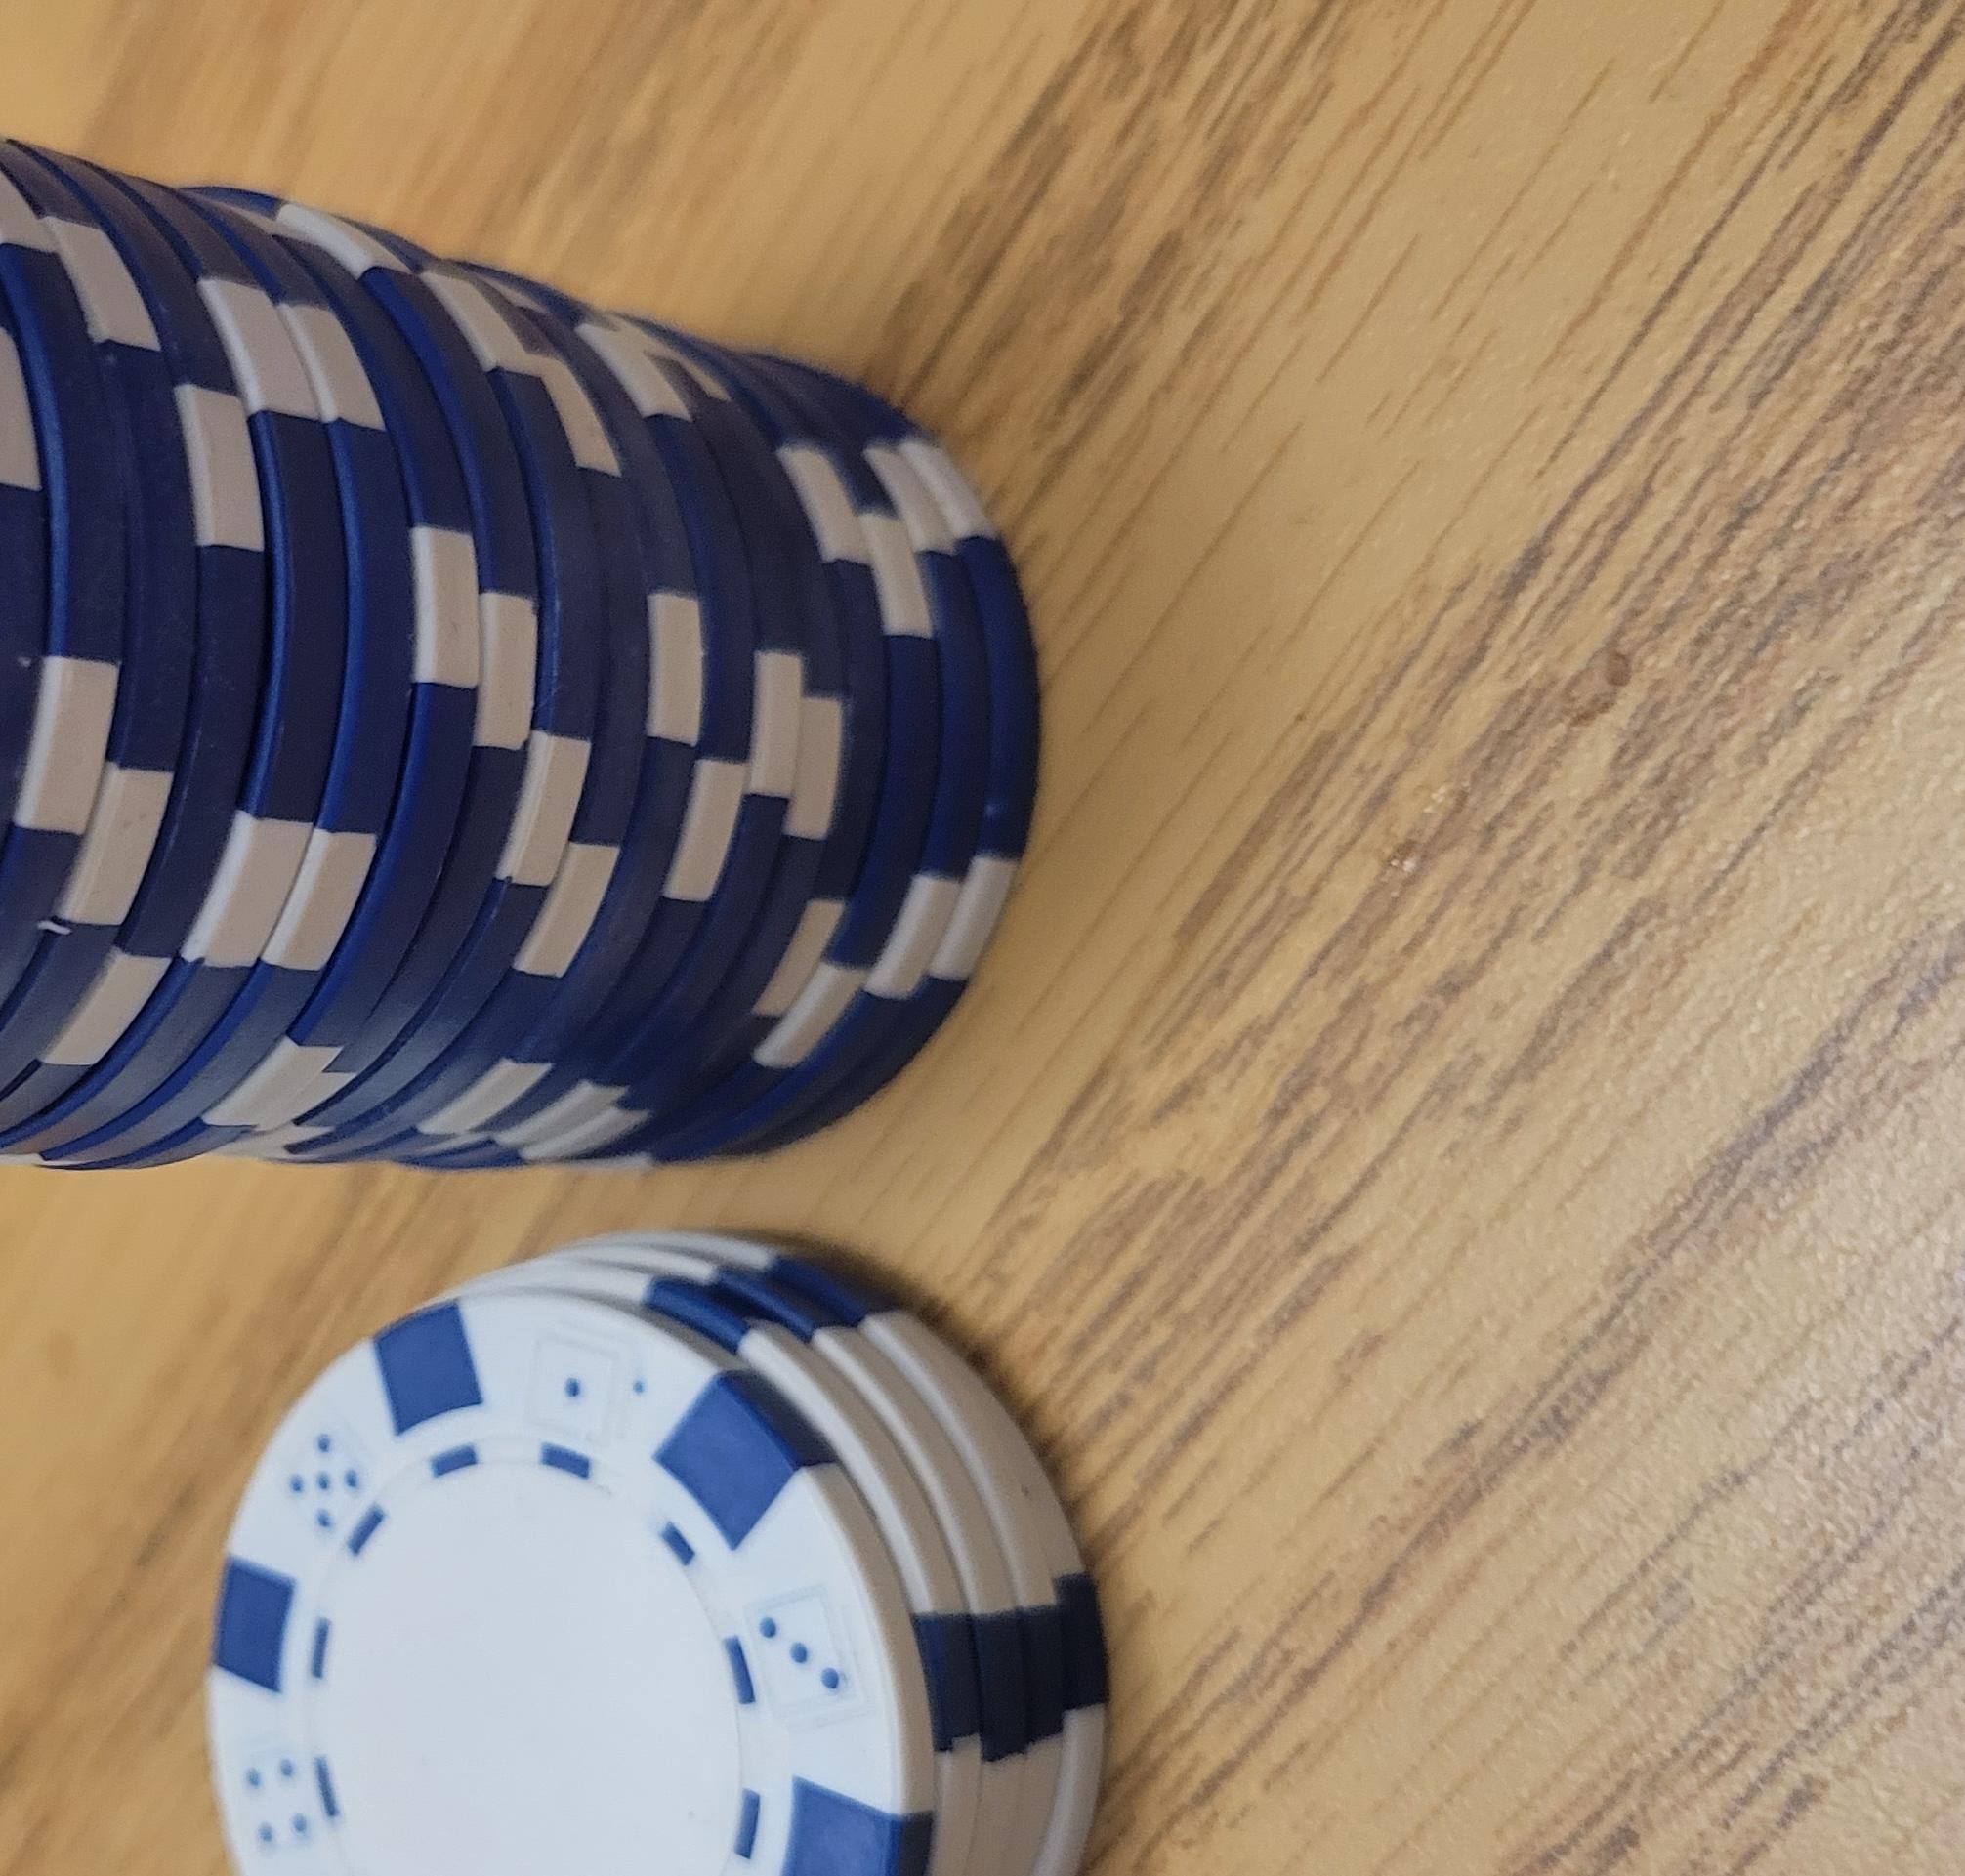Chip: (2, 111, 1039, 1876)
